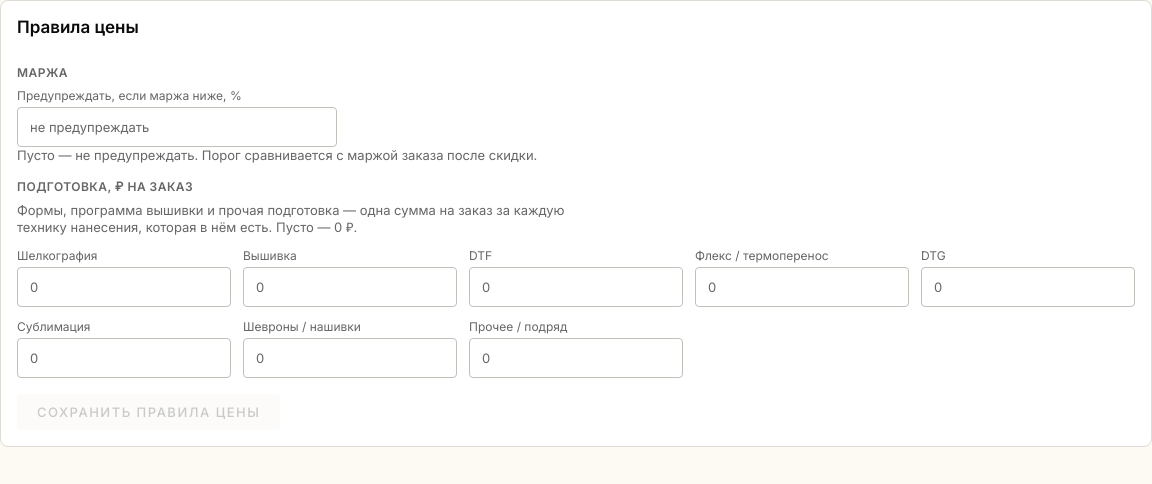
Scenario: «Правила цены» › порог вне 0–100 — сохранение закрыто
Step 1. Type "150" into the number field labelled "Предупреждать, если маржа ниже, %" → (177, 127), box [17,107,337,147]
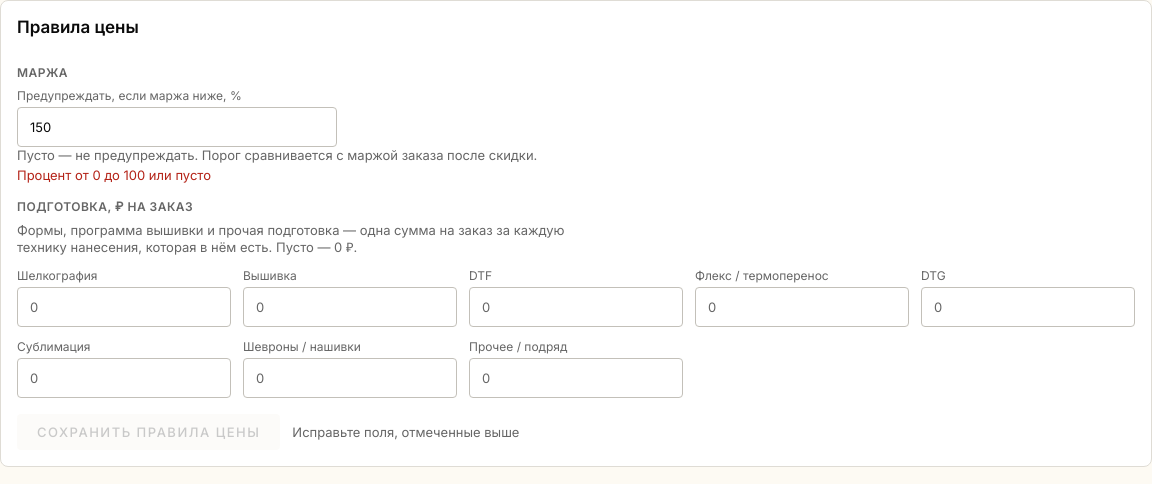
Expected: the button "Сохранить правила цены" is disabled, [17,414,280,450]
Now the text "Процент от 0 до 100 или пусто" is shown, box [17,167,211,183]
